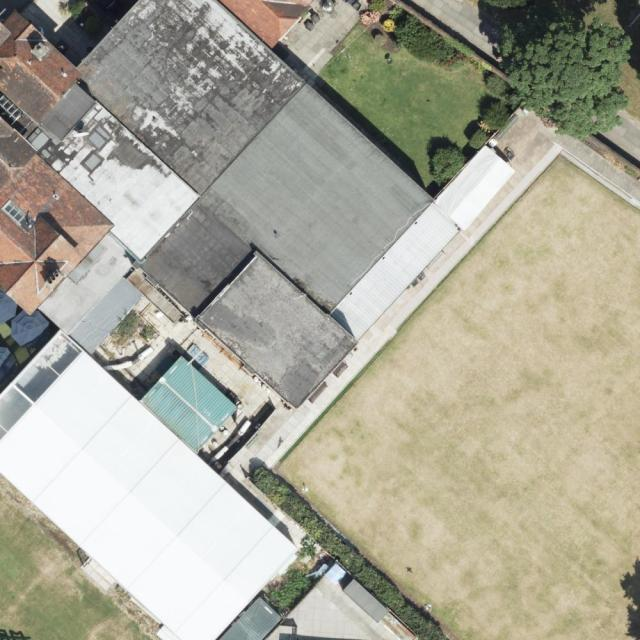roof: (0, 0, 462, 640)
skylight: (2, 199, 40, 237)
